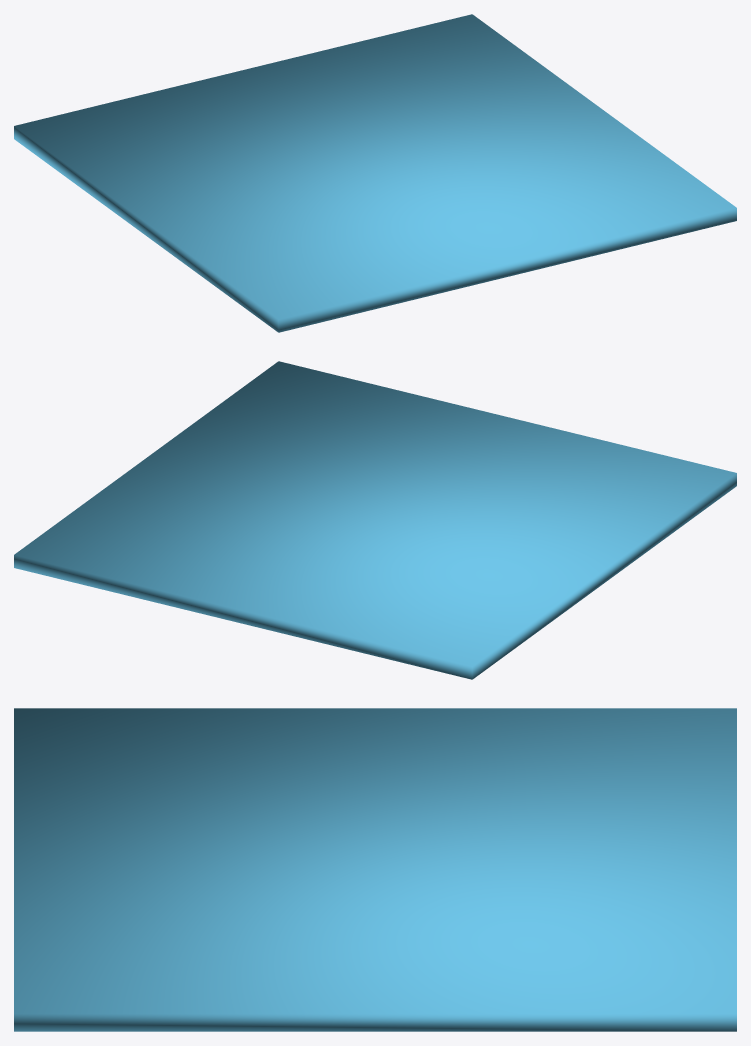
Rendered from piadina_leggera_mini.fbx.
The picture shows the model from 3 angles, top to bottom: view 1: azimuth 30°, elevation 25°; view 2: azimuth 150°, elevation 25°; view 3: azimuth 270°, elevation 25°; orthographic projection. The views are drawn at different scales.
Parts seen in each view (by area): view 1: leggera; view 2: leggera; view 3: leggera.
Part boxes in pixels (x1,y1,x2,y2): leggera: [14, 14, 736, 332]; leggera: [14, 361, 736, 679]; leggera: [14, 708, 736, 1031].
Bounding box in the file's own units: 200 × 5.47 × 200.
